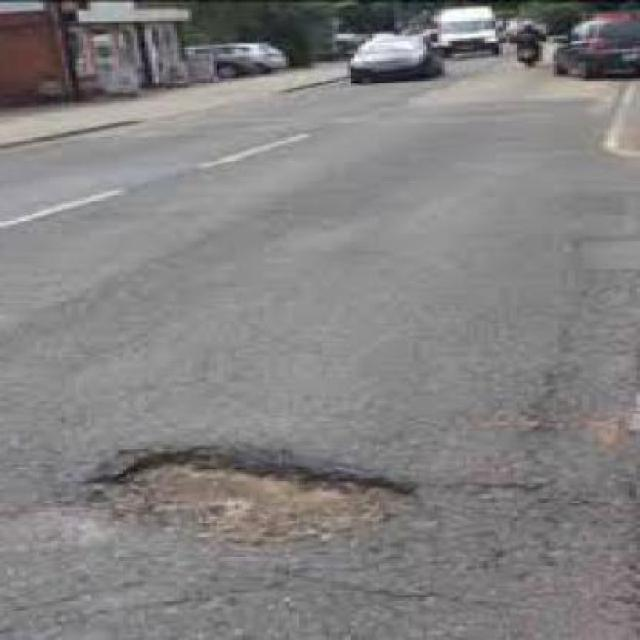pothole: (83, 435, 434, 551)
